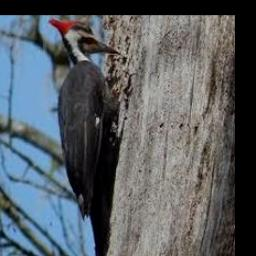Woodpecker: (49, 19, 124, 219)
